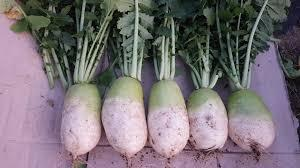radish: (47, 19, 70, 42), (27, 20, 49, 42), (68, 20, 90, 41), (106, 23, 132, 40), (86, 23, 109, 41)
